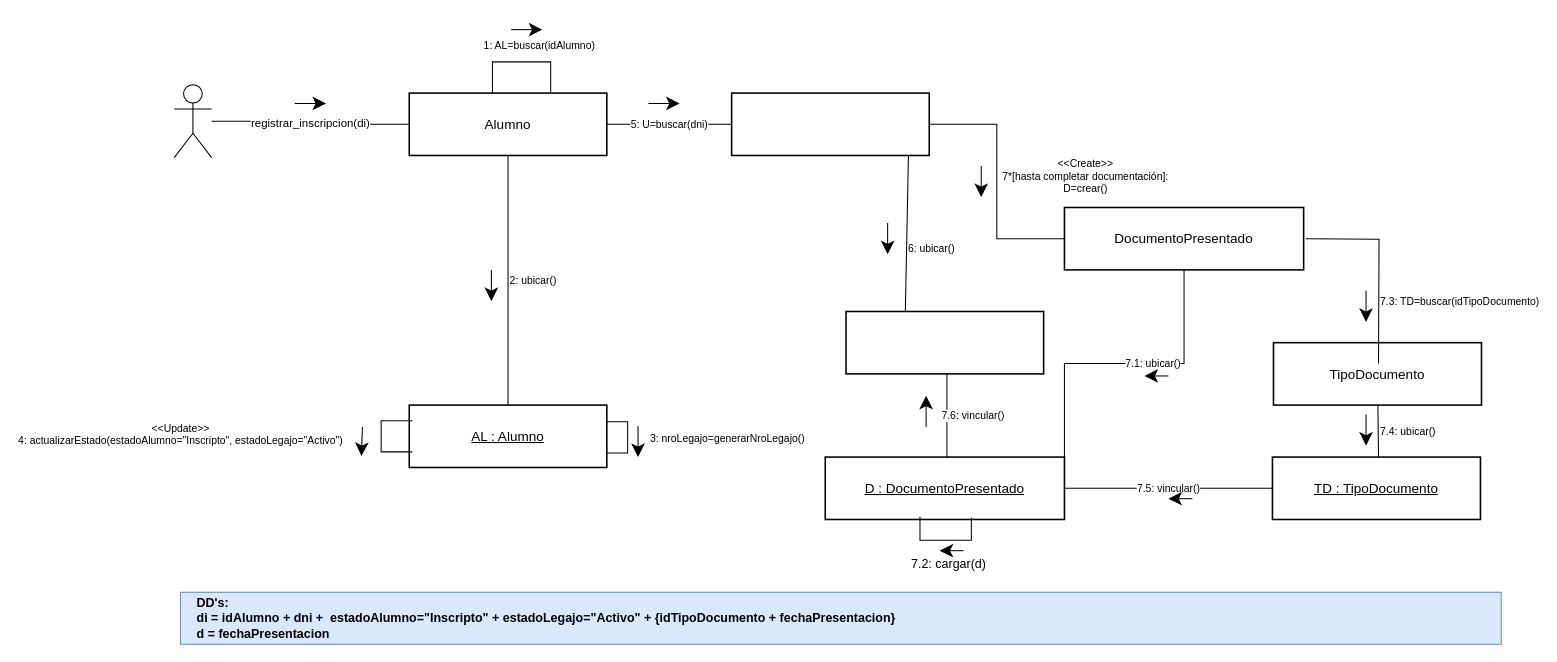
Image size: 1557x662. Some labels were removed from this diagram. The centre of each missing label's shape, as x and y in pixels:
"Preceptor / Auxiliar Administrativo" belongs at (x=192, y=121).
"U : Usuario" belongs at (x=944, y=342).
"Usuario" belongs at (x=830, y=124).
